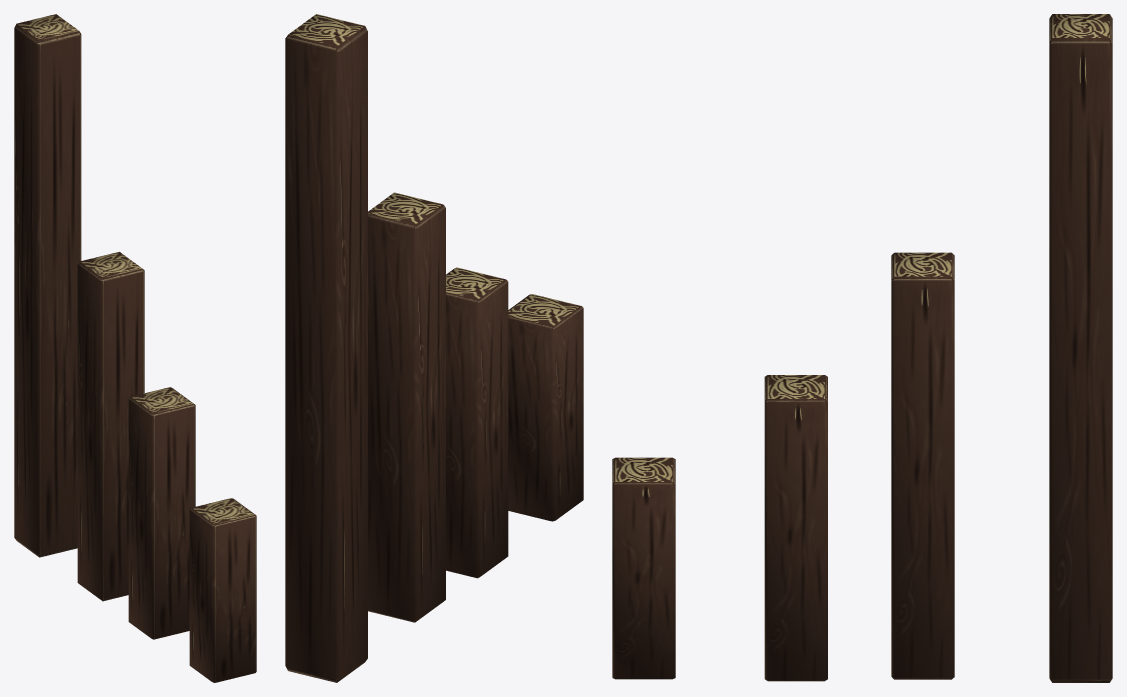
The model's file is Beam_1.fbx.
3 renders of one model, left to right at view 1: azimuth 30°, elevation 25°; view 2: azimuth 150°, elevation 25°; view 3: azimuth 270°, elevation 25°, orthographic. The views are drawn at different scales.
Visible parts, largest first — view 1: Beam1_90cm, Beam1_50cm, Beam1_25cm, Beam1_15cm; view 2: Beam1_90cm, Beam1_50cm, Beam1_25cm, Beam1_15cm; view 3: Beam1_90cm, Beam1_50cm, Beam1_25cm, Beam1_15cm.
Boxes of the visible parts, <box> form: Beam1_90cm: <box>14,14,81,557</box>; Beam1_50cm: <box>77,251,144,601</box>; Beam1_25cm: <box>128,387,195,639</box>; Beam1_15cm: <box>189,498,256,682</box>; Beam1_90cm: <box>285,14,367,682</box>; Beam1_50cm: <box>368,192,445,622</box>; Beam1_25cm: <box>446,267,508,578</box>; Beam1_15cm: <box>508,294,583,521</box>; Beam1_90cm: <box>1049,14,1112,682</box>; Beam1_50cm: <box>891,252,954,679</box>; Beam1_25cm: <box>764,375,827,681</box>; Beam1_15cm: <box>612,457,675,679</box>.
Bounding box in the file's own units: 29.88 × 335 × 235.
